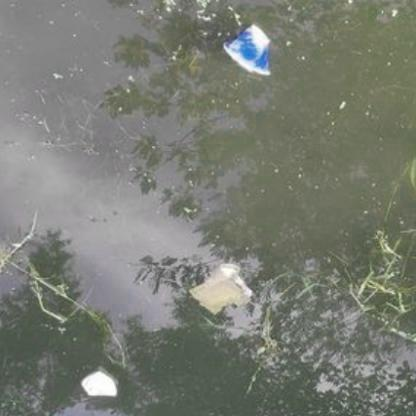Plastic: (217, 24, 277, 79)
Trash: (184, 264, 255, 320), (78, 370, 119, 400)
